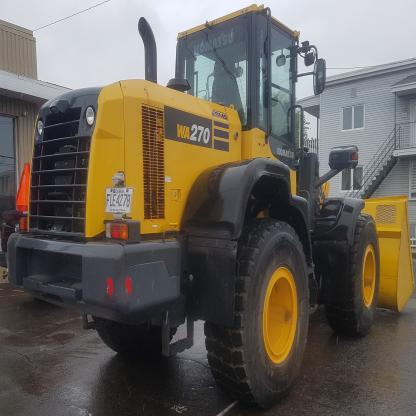bull_dozer/loader/grader: (14, 3, 416, 409)
